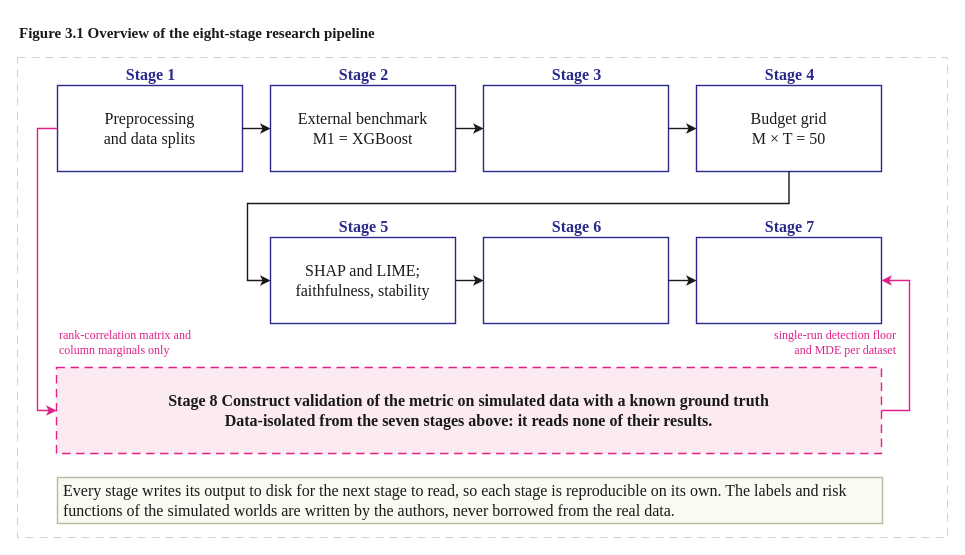
Image size: 965x555. Some labels were removed from this diagram. The shapes that lost their labels are listed below. From the top down, each one's centre as x and y in pixels, then its label:
At (x=575, y=128): "Pool of 50 basins; M2 to M5 derived".
At (x=575, y=280): "Result tables and statistical tests".
At (x=788, y=280): "Figures".
